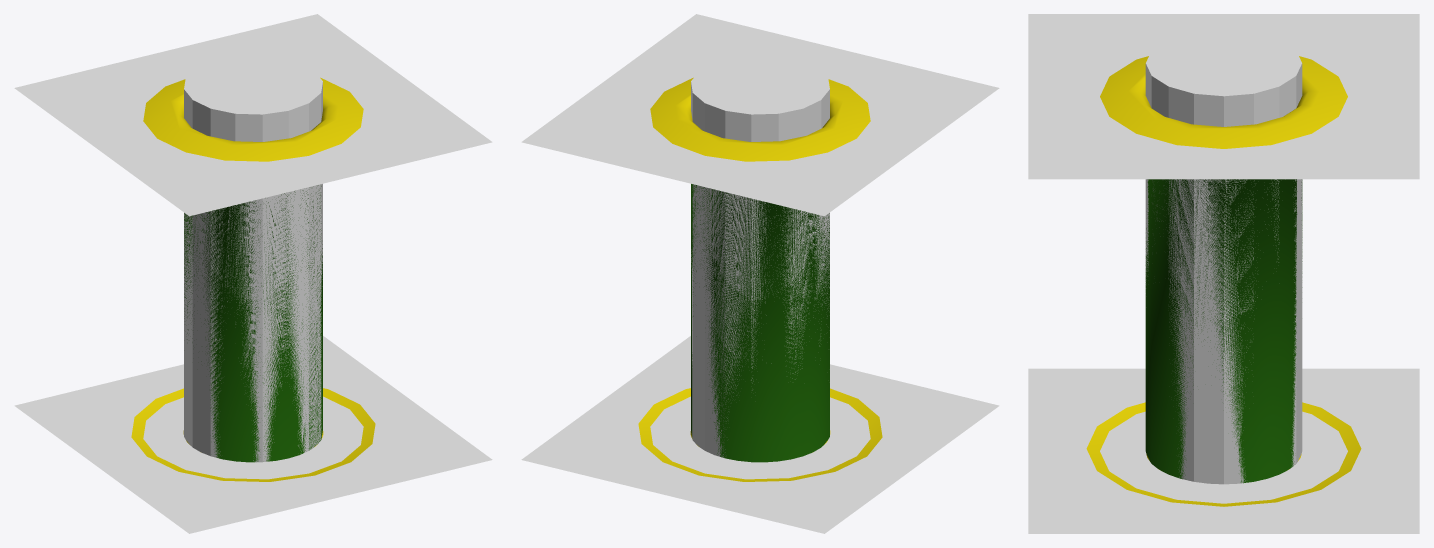
Rendered from soldering board Hole.fbx.
3 views of the same model, side by side, from view 1: azimuth 30°, elevation 25°; view 2: azimuth 150°, elevation 25°; view 3: azimuth 270°, elevation 25° (orthographic). The views are drawn at different scales.
Parts seen in each view (by area): view 1: Cube, Cylinder, Cylinder.001; view 2: Cube, Cylinder.001, Cylinder; view 3: Cube, Cylinder.001, Cylinder.
Boxes of the visible parts, x1,y1,x2,y2 form: Cube: (14,14,492,533); Cylinder: (184,55,322,462); Cylinder.001: (131,77,375,481); Cube: (521,14,999,533); Cylinder.001: (638,77,882,481); Cylinder: (691,55,829,457); Cube: (1028,14,1419,533); Cylinder.001: (1086,56,1361,506); Cylinder: (1145,30,1302,484).
Bounding box in the file's own units: 200 × 238 × 200.
